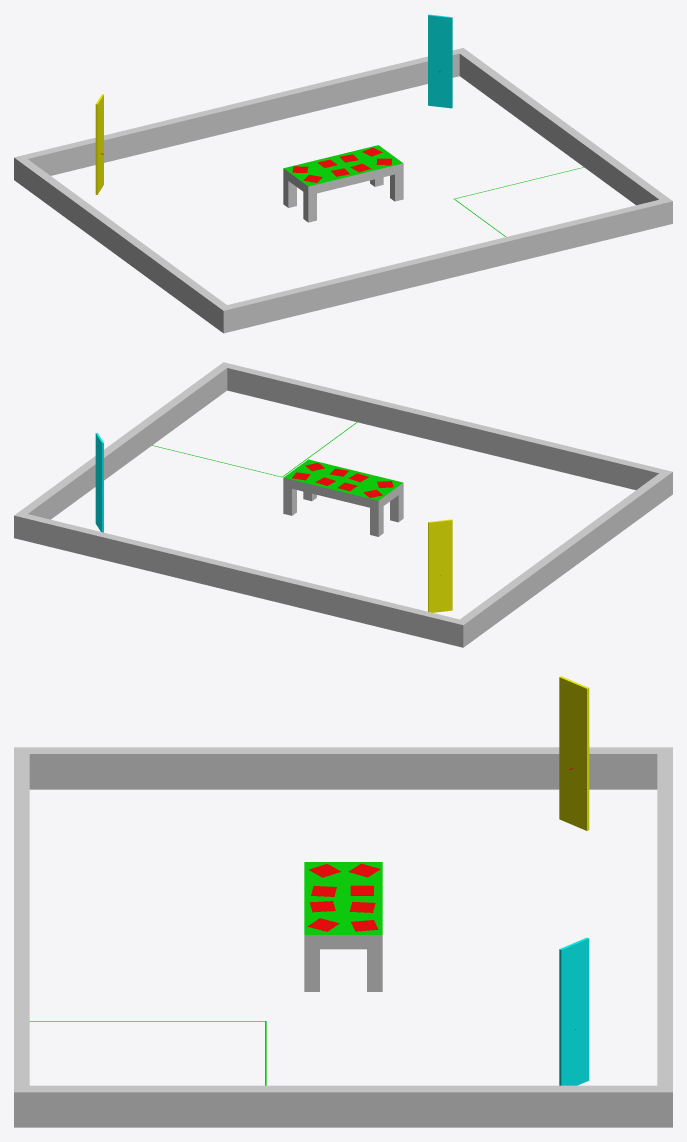
The model's file is challenge_3.dae.
3 renders of one model, top to bottom at view 1: azimuth 30°, elevation 25°; view 2: azimuth 150°, elevation 25°; view 3: azimuth 270°, elevation 25°, orthographic. The views are drawn at different scales.
Visible parts, largest first — view 1: Shape_IndexedFaceSet.001, Shape_IndexedFaceSet, Shape_IndexedFaceSet.011, Shape_IndexedFaceSet.012; view 2: Shape_IndexedFaceSet.001, Shape_IndexedFaceSet, Shape_IndexedFaceSet.012, Shape_IndexedFaceSet.011; view 3: Shape_IndexedFaceSet.001, Shape_IndexedFaceSet, Shape_IndexedFaceSet.012, Shape_IndexedFaceSet.011.
Part boxes in pixels (x1,y1,x2,y2): Shape_IndexedFaceSet.001: [14, 48, 672, 333]; Shape_IndexedFaceSet: [283, 145, 403, 222]; Shape_IndexedFaceSet.011: [428, 14, 452, 108]; Shape_IndexedFaceSet.012: [95, 94, 103, 194]; Shape_IndexedFaceSet.001: [14, 362, 672, 647]; Shape_IndexedFaceSet: [283, 459, 403, 536]; Shape_IndexedFaceSet.012: [428, 519, 452, 612]; Shape_IndexedFaceSet.011: [95, 433, 103, 532]; Shape_IndexedFaceSet.001: [14, 747, 672, 1127]; Shape_IndexedFaceSet: [304, 862, 382, 991]; Shape_IndexedFaceSet.012: [559, 676, 589, 830]; Shape_IndexedFaceSet.011: [559, 937, 589, 1085].
Size of the model in its own units: 5.2 by 4.2 by 1.
